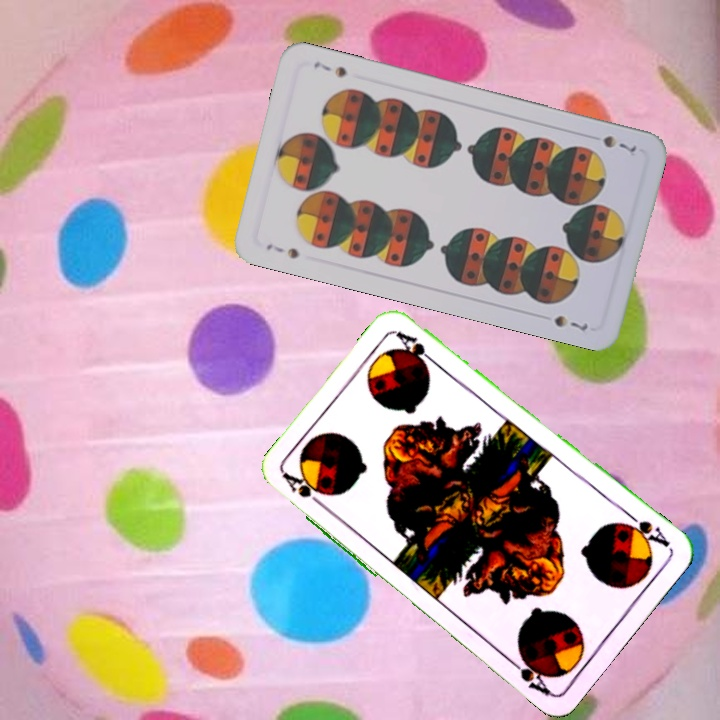S7: (599, 131, 639, 155), (262, 239, 301, 261)
SA: (616, 508, 673, 550), (279, 469, 330, 513)
